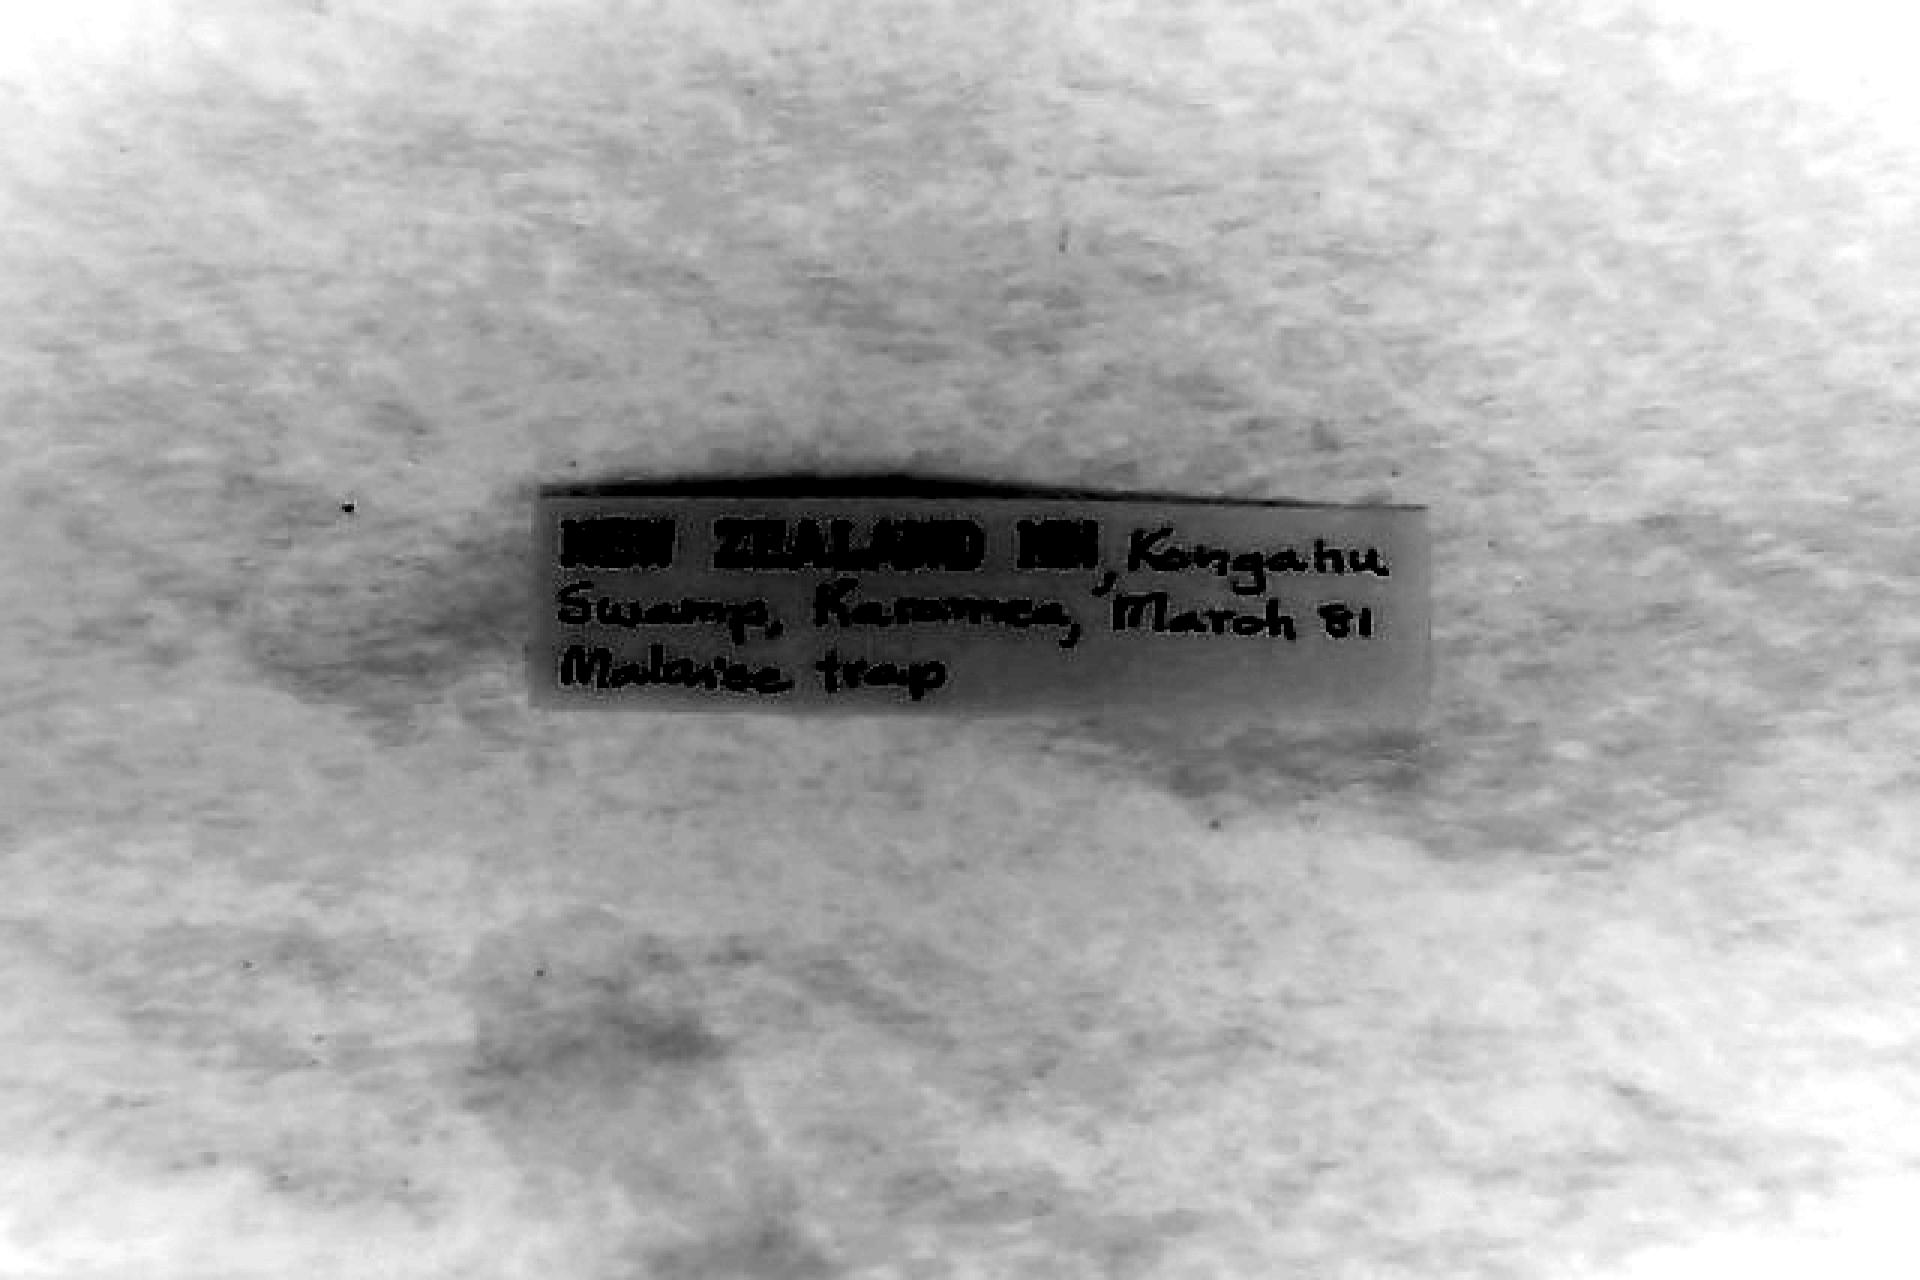mixed_label: (532, 497, 1429, 722)
